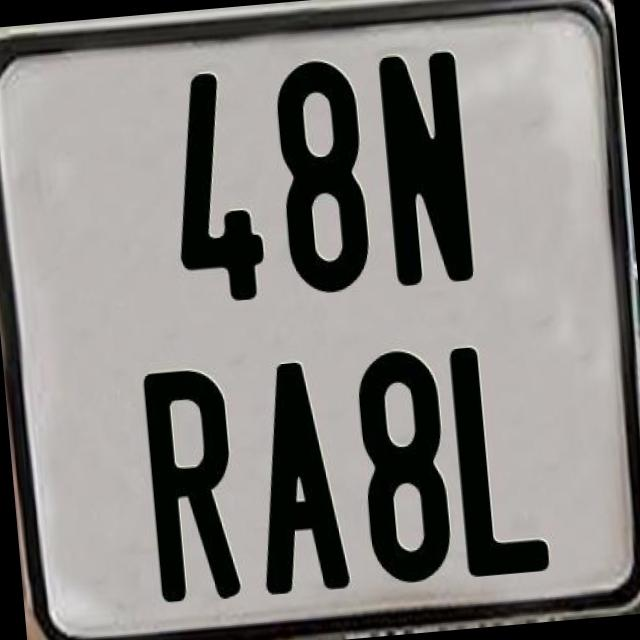4: (164, 68, 268, 303)
8: (349, 344, 458, 590), (268, 56, 370, 302)
A: (244, 356, 350, 596)
L: (446, 342, 554, 580)
N: (376, 48, 481, 284)
R: (140, 366, 247, 606)
